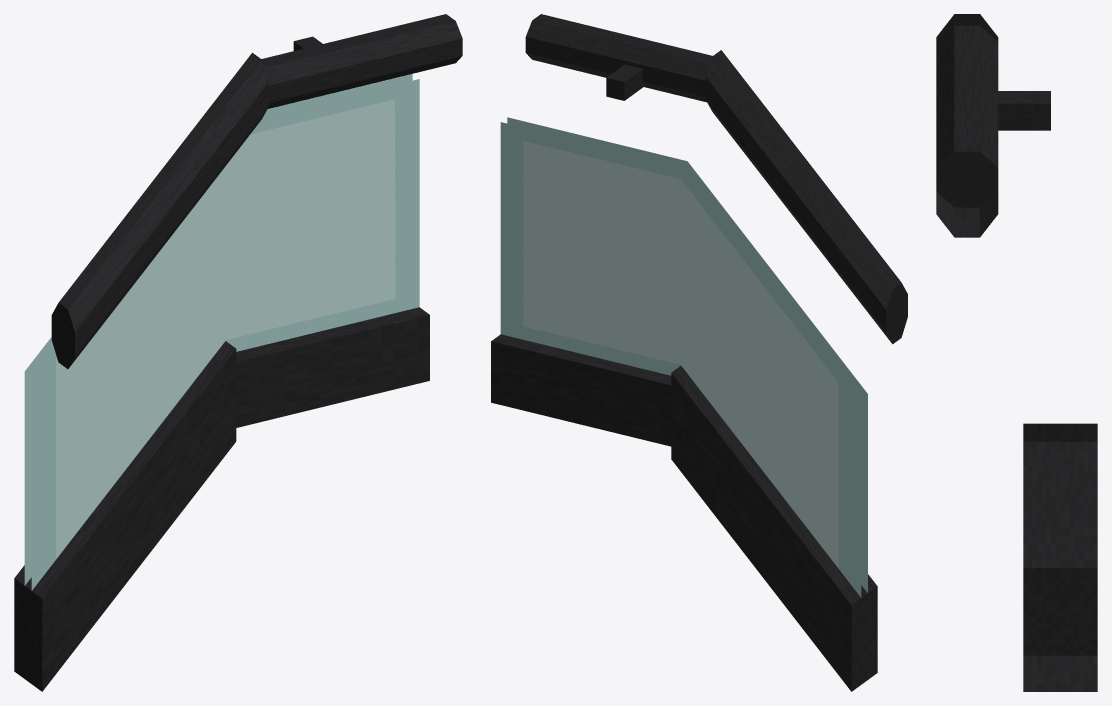
Rendered from top_pos.obj.
3 views of the same model, side by side, from view 1: azimuth 30°, elevation 25°; view 2: azimuth 150°, elevation 25°; view 3: azimuth 270°, elevation 25° (orthographic). The views are drawn at different scales.
Parts seen in each view (by area): view 1: railing_glass_black_top_pos; view 2: railing_glass_black_top_pos; view 3: railing_glass_black_top_pos.
Part boxes in pixels (x1,y1,x2,y2): railing_glass_black_top_pos: (14, 14, 462, 691); railing_glass_black_top_pos: (491, 14, 907, 691); railing_glass_black_top_pos: (936, 14, 1097, 691).
Bounding box in the file's own units: 1 × 1.49 × 0.2707.
